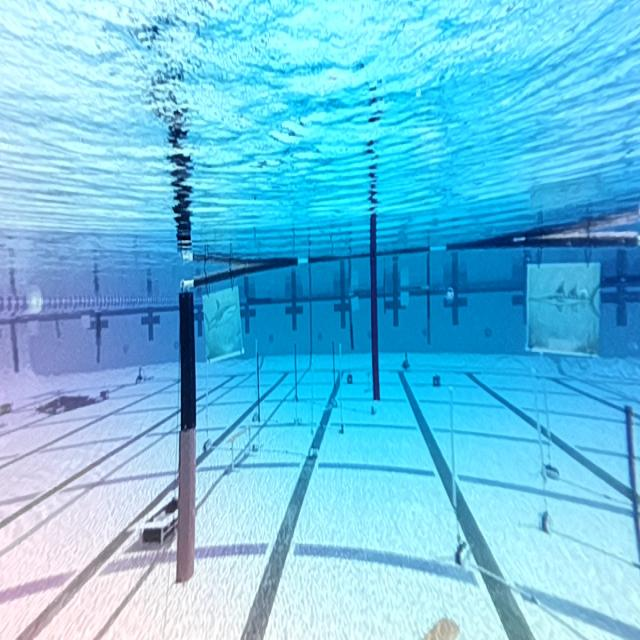pointed_nose: (529, 264, 601, 350)
round_nose: (203, 290, 240, 354)
